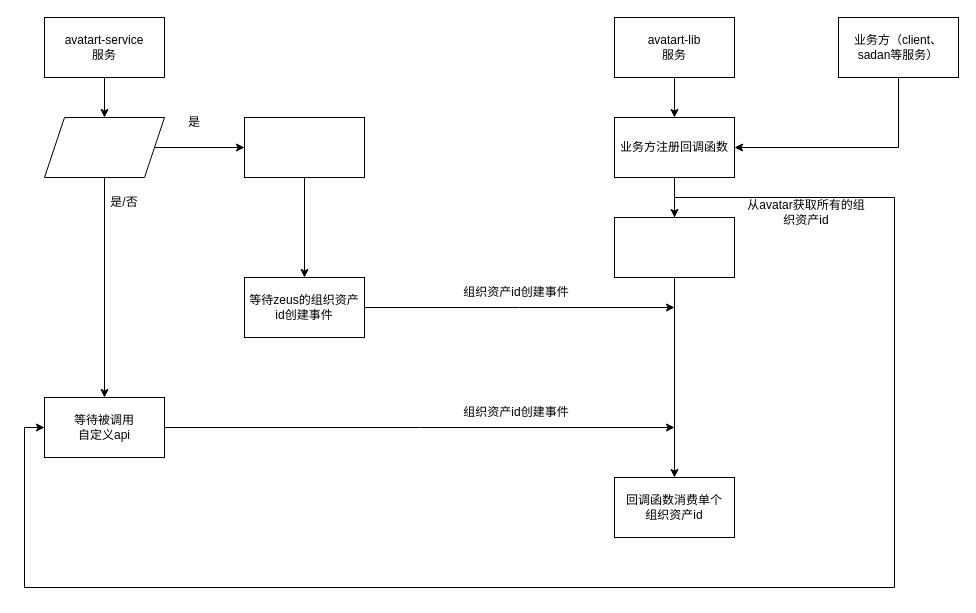
Image size: 976x613. Some labels were removed from this diagram. Here are the shapes that lost their labels. From the top down, the centre of each, then its label:
At pixel 104 147: "是否订阅zeus".
At pixel 304 147: "从zeus获取所有组织资产id，并建立订阅关系，".
At pixel 674 247: "回调函数消费所有的组织资产id".
